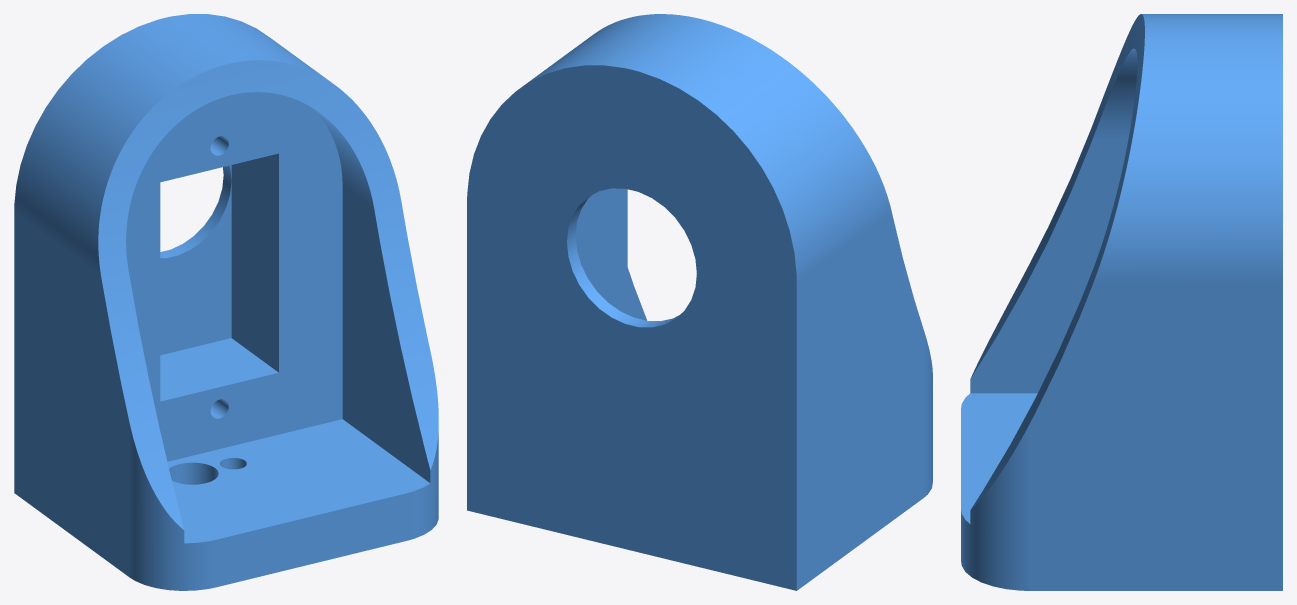
File: arm_3.glb
3 renders of one model, left to right at view 1: azimuth 30°, elevation 25°; view 2: azimuth 150°, elevation 25°; view 3: azimuth 270°, elevation 25°, orthographic. The views are drawn at different scales.
Visible parts, largest first — view 1: Arm 03.SLDPRT; view 2: Arm 03.SLDPRT; view 3: Arm 03.SLDPRT.
Boxes of the visible parts, x1,y1,x2,y2 form: Arm 03.SLDPRT: (14,14,438,590); Arm 03.SLDPRT: (467,14,932,590); Arm 03.SLDPRT: (961,14,1282,590).
Bounding box in the file's own units: 0.033 × 0.046 × 0.028.
